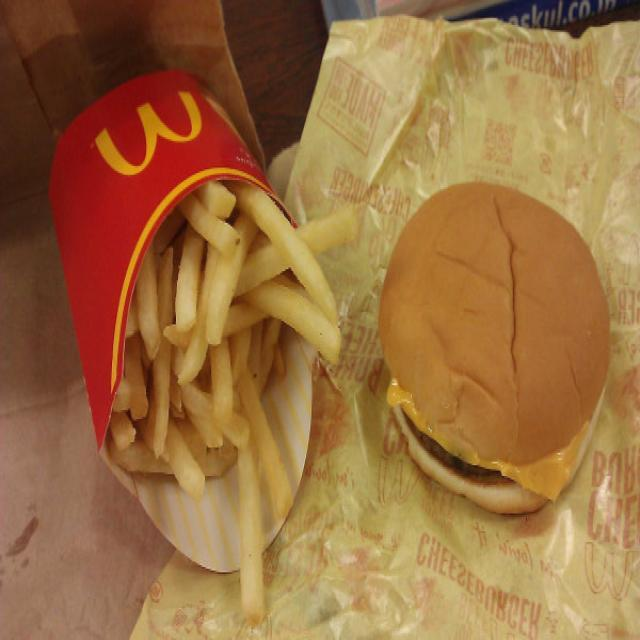French Fries: (96, 162, 349, 533)
Hamburger: (366, 165, 624, 530)
